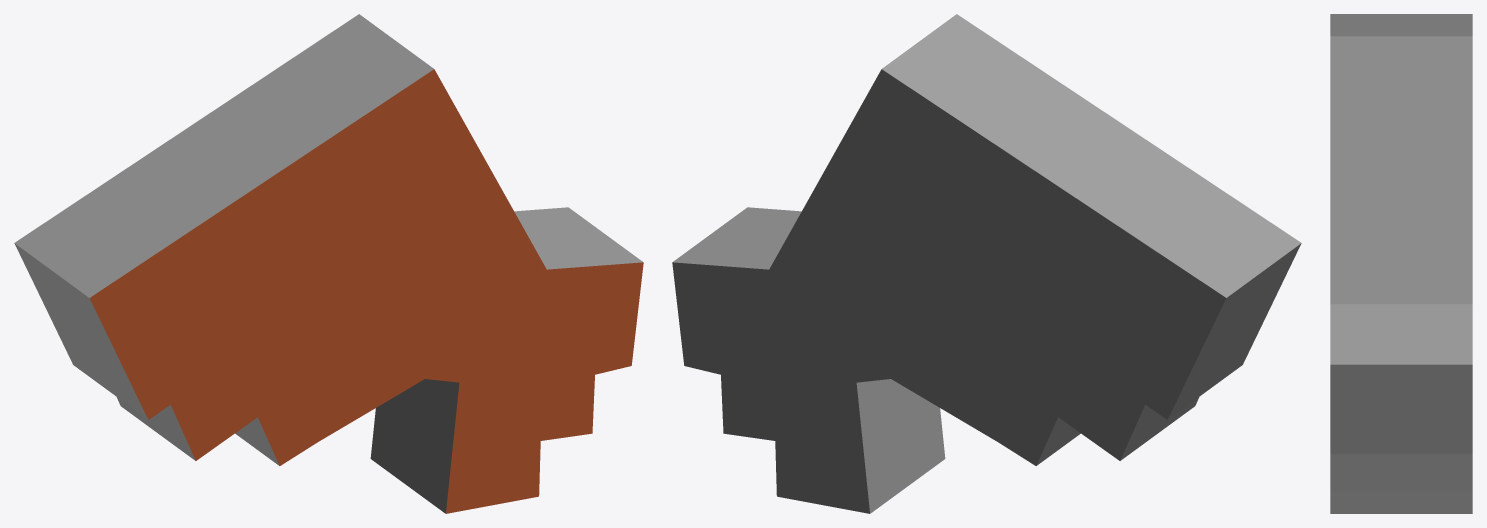
File: construction_5537_assumed_A_Casa_h6m.obj
3 views of the same model, side by side, from view 1: azimuth 30°, elevation 25°; view 2: azimuth 150°, elevation 25°; view 3: azimuth 270°, elevation 25° (orthographic). The views are drawn at different scales.
Parts seen in each view (by area): view 1: construction_5537_assumed_A_Casa; view 2: construction_5537_assumed_A_Casa; view 3: construction_5537_assumed_A_Casa.
Part boxes in pixels (box(x1,y1,x2,y2)): construction_5537_assumed_A_Casa: box(14, 14, 643, 513); construction_5537_assumed_A_Casa: box(672, 14, 1301, 513); construction_5537_assumed_A_Casa: box(1330, 14, 1472, 513).
Bounding box in the file's own units: 25.52 × 19.93 × 6.
